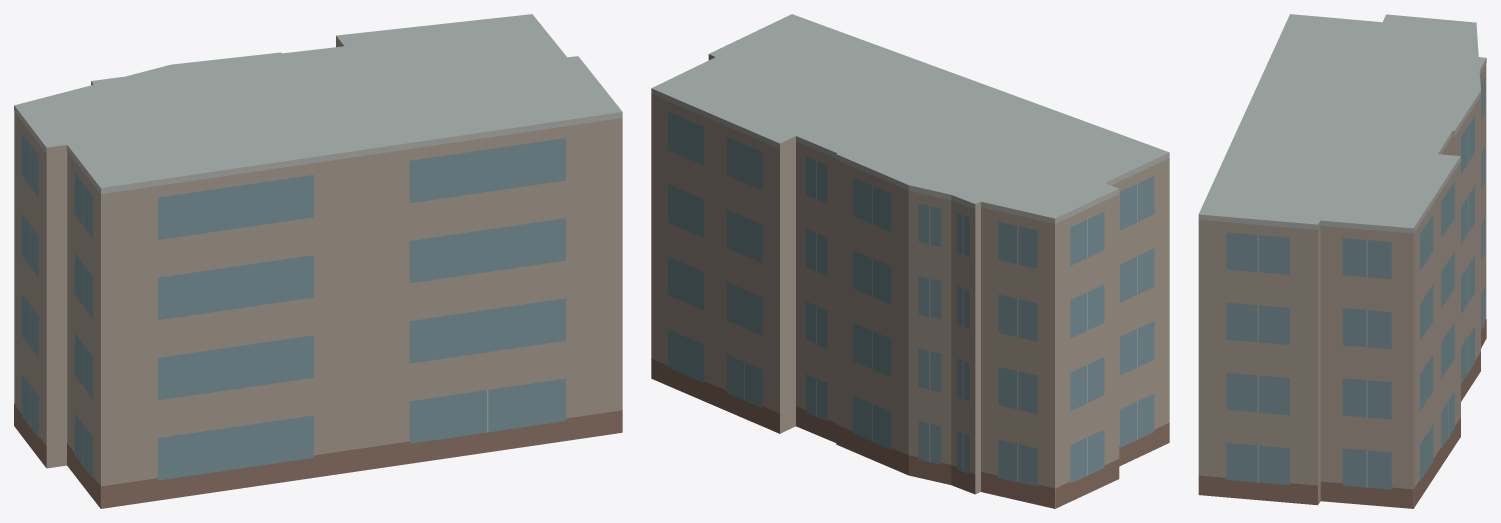
Rendered from survey-upis-33038749.glb.
3 views of the same model, side by side, from view 1: azimuth 30°, elevation 25°; view 2: azimuth 150°, elevation 25°; view 3: azimuth 270°, elevation 25° (orthographic). The views are drawn at different scales.
Parts seen in each view (by area): view 1: survey-upis-33038749.tmp; view 2: survey-upis-33038749.tmp; view 3: survey-upis-33038749.tmp.
Part boxes in pixels (left/top/right/bottom): survey-upis-33038749.tmp: left=14, top=14, right=622, bottom=508; survey-upis-33038749.tmp: left=651, top=14, right=1169, bottom=508; survey-upis-33038749.tmp: left=1198, top=14, right=1486, bottom=508.
Size of the model in its own units: 21.15 by 12.9 by 12.01.
